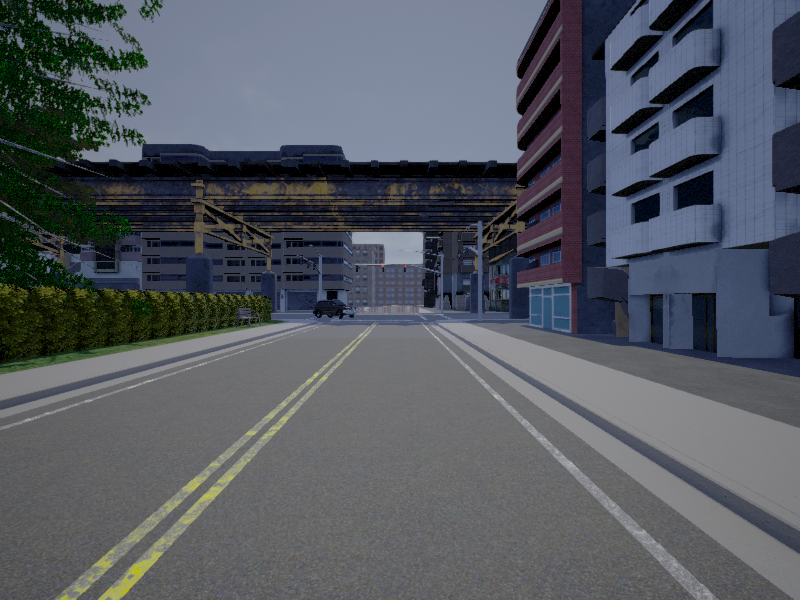Benign: (314, 299, 356, 322)
